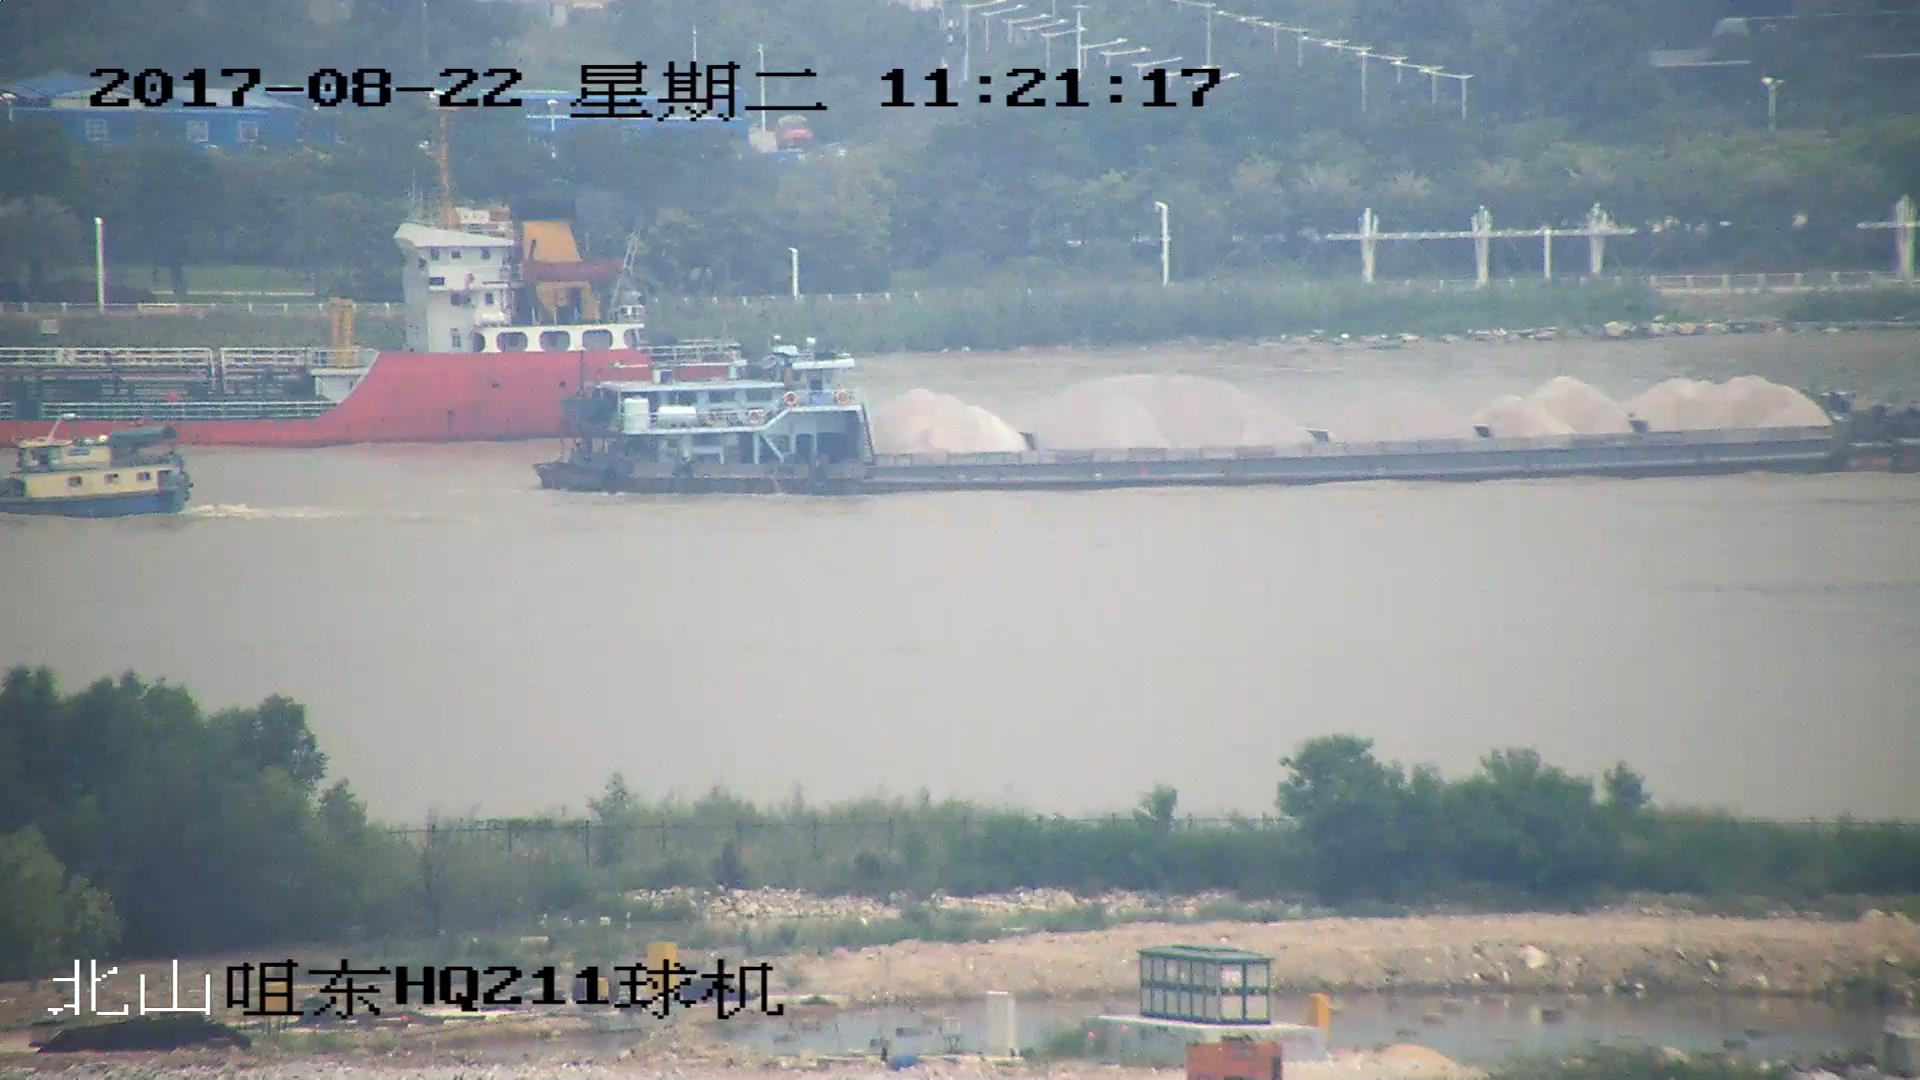fishing boat: (1, 419, 195, 516)
general cargo ship: (1, 119, 738, 437)
ore carrier: (531, 346, 1920, 502)
